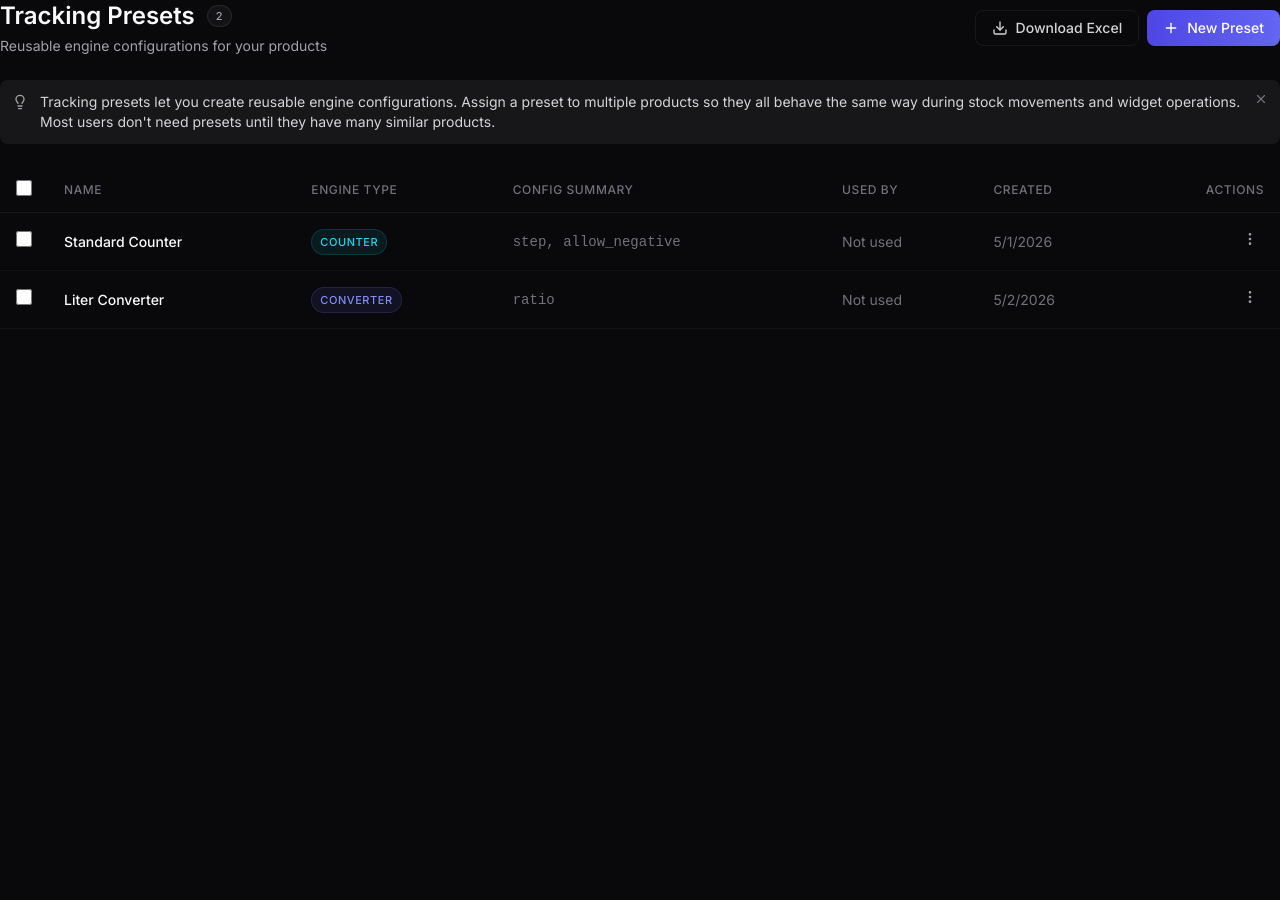
CalculatorList › bulk-delete flow › modal has no cascade toggle
Click the checkbox named "Select Standard Counter". click: (24, 239)
box: [16,231,32,247]
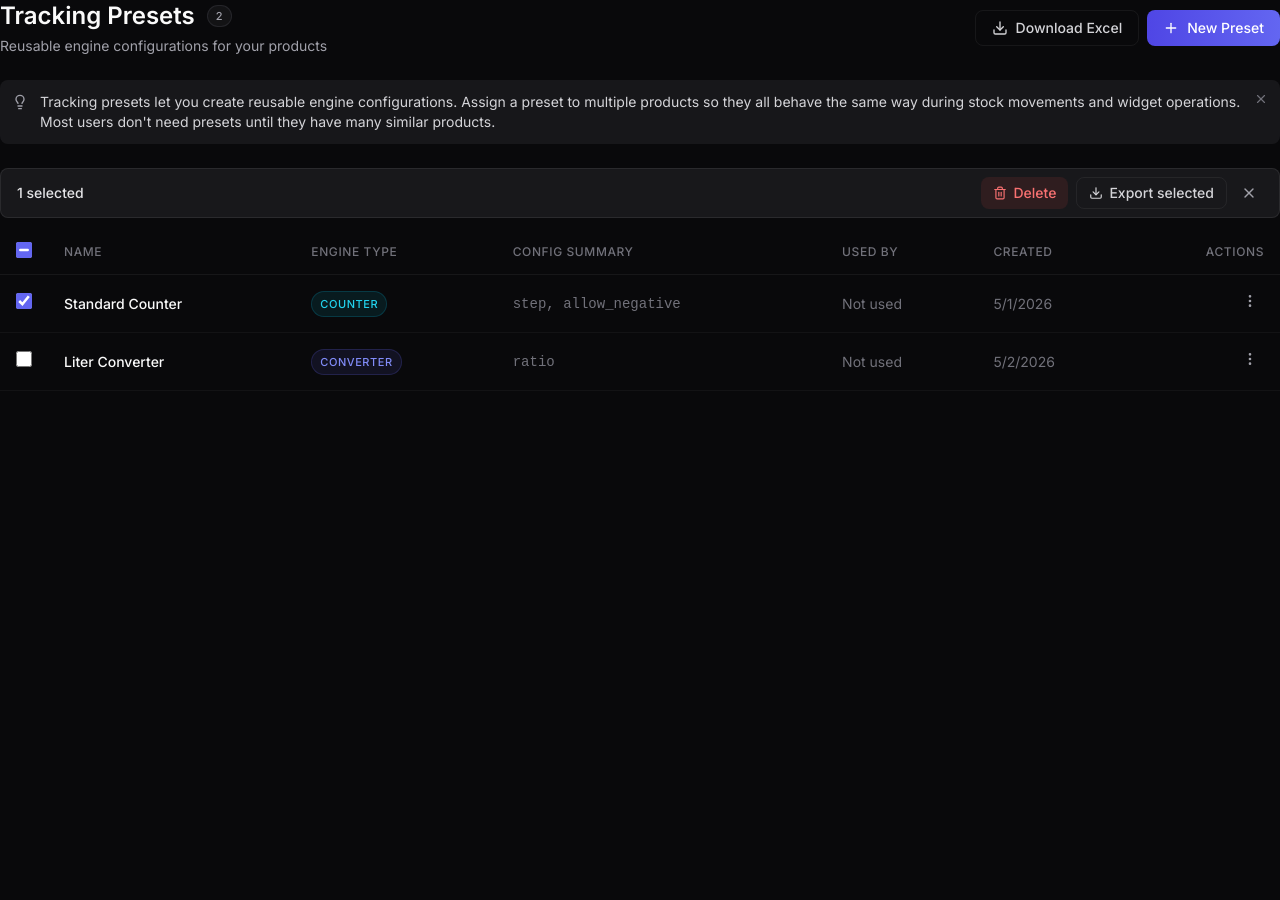
Click the button "Delete". click: (1025, 193)
box: [982,177,1068,209]
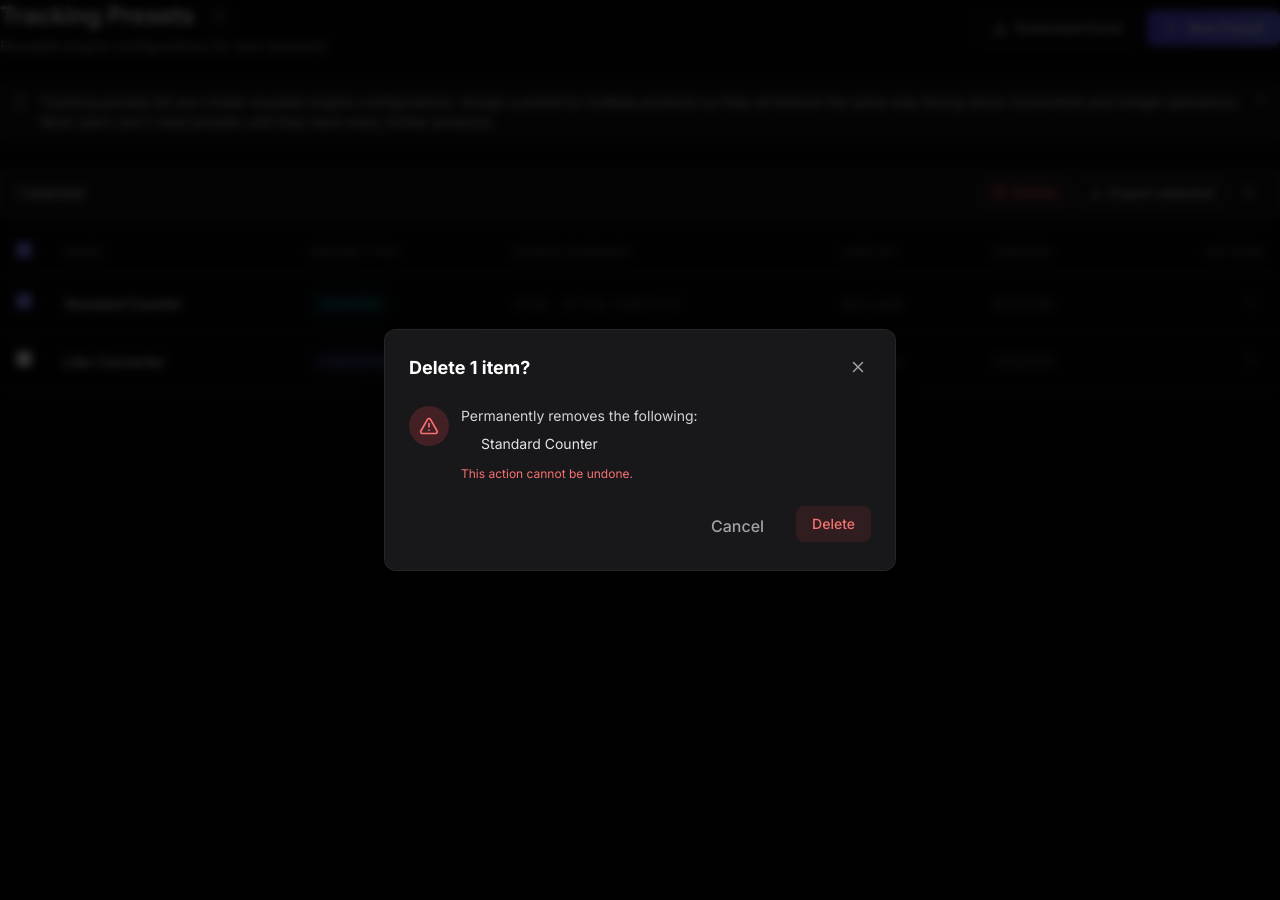
Check: the button with test id "bulk-delete-confirm" is shown, box [796,506,871,542]
